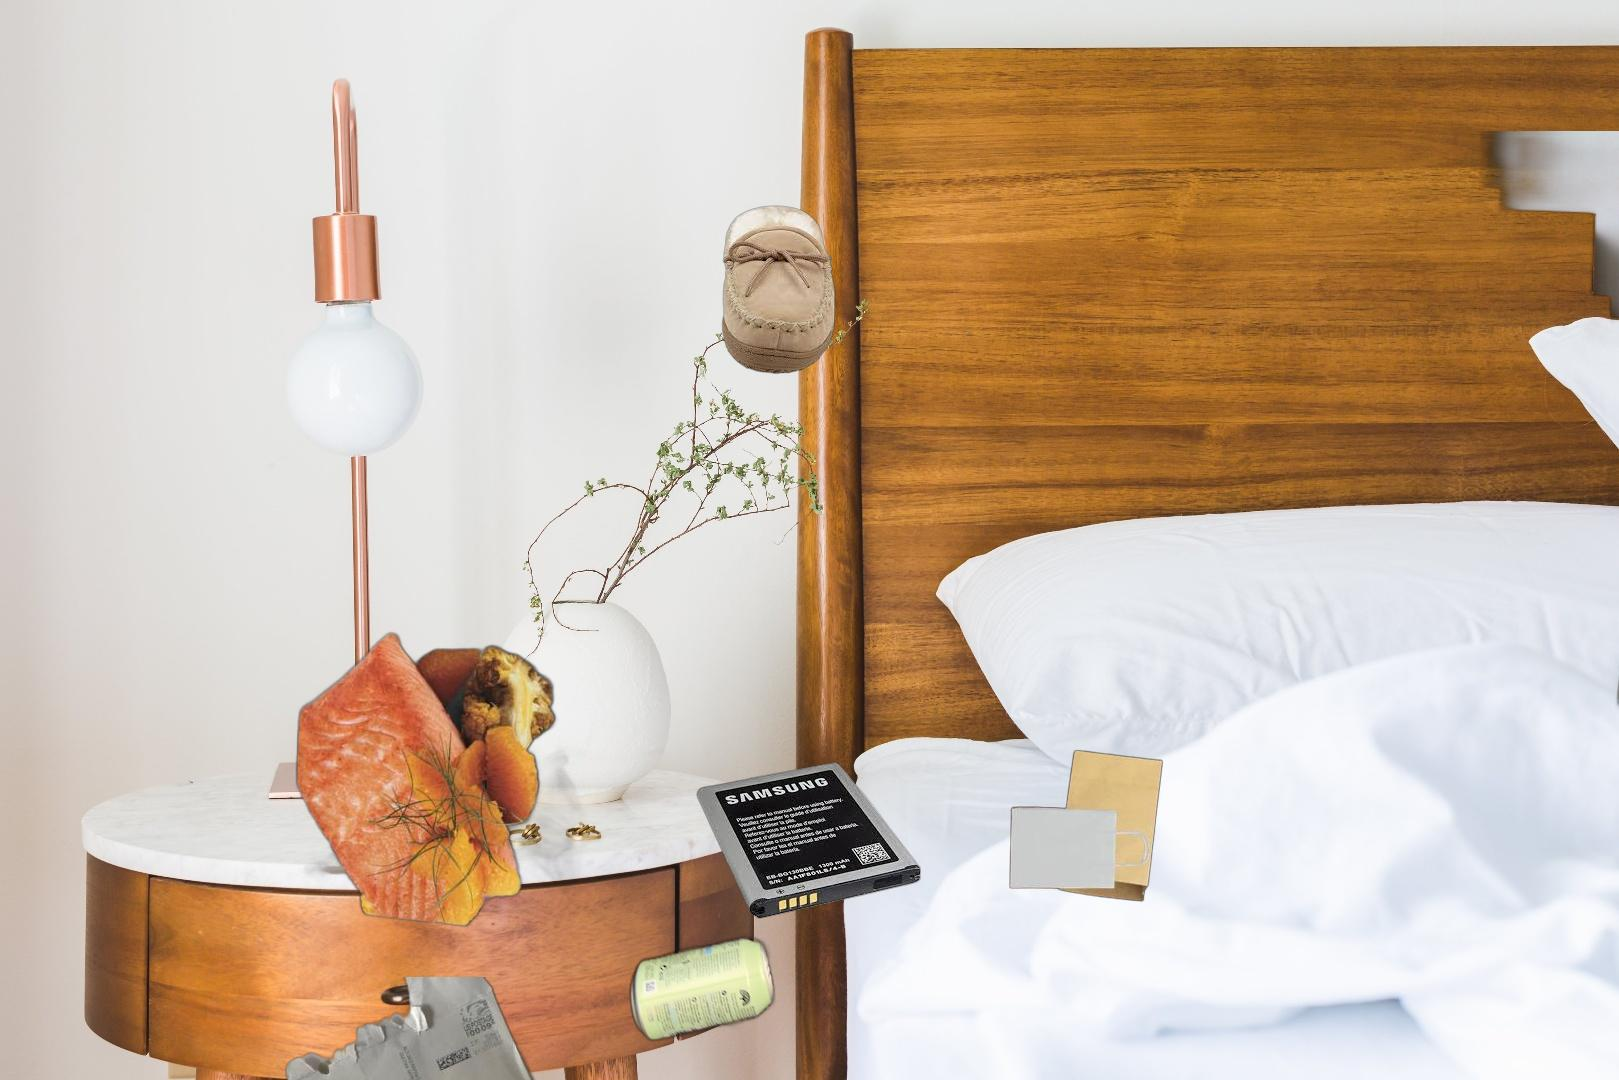battery: (696, 759, 921, 921)
glass: (1614, 571, 1619, 828)
metal-cans: (567, 440, 1042, 1080)
paper: (292, 629, 593, 953), (102, 978, 583, 1080)
paper-bag: (1007, 749, 1166, 904)
shoes: (718, 202, 838, 377)
trashbox-cardboard: (1476, 131, 1619, 544)
